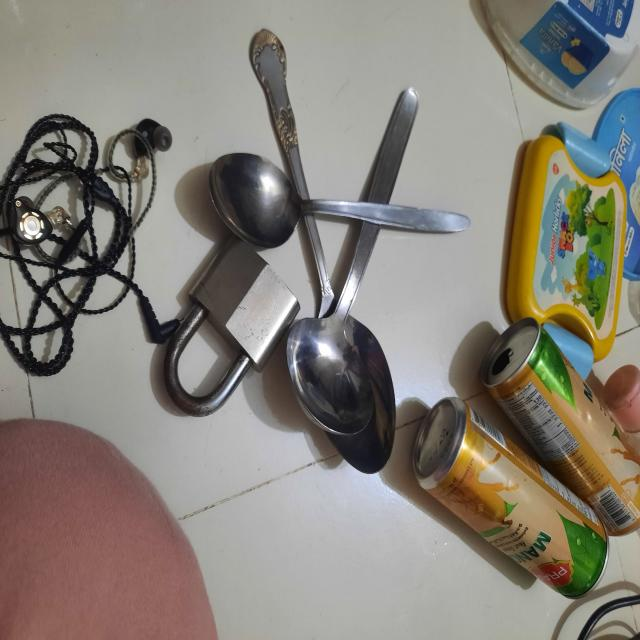Cable: (0, 79, 154, 417)
Metal: (178, 19, 414, 482)
Plastics: (486, 0, 640, 343)
can: (423, 335, 640, 636)
